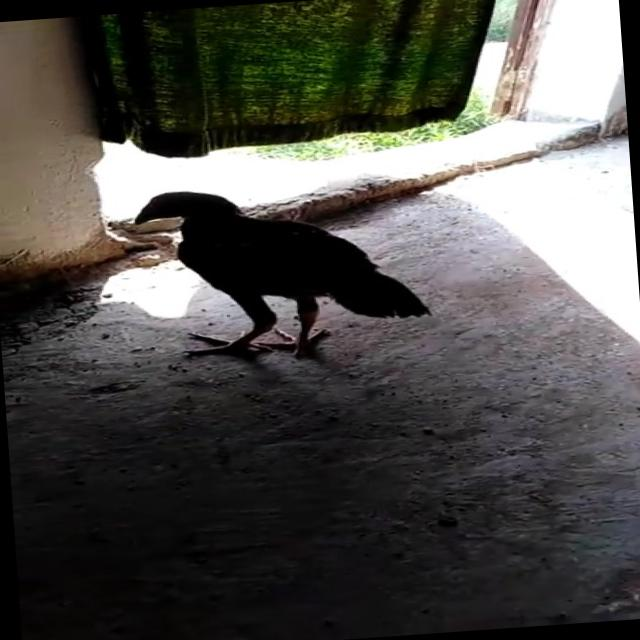walking: (91, 155, 454, 383)
